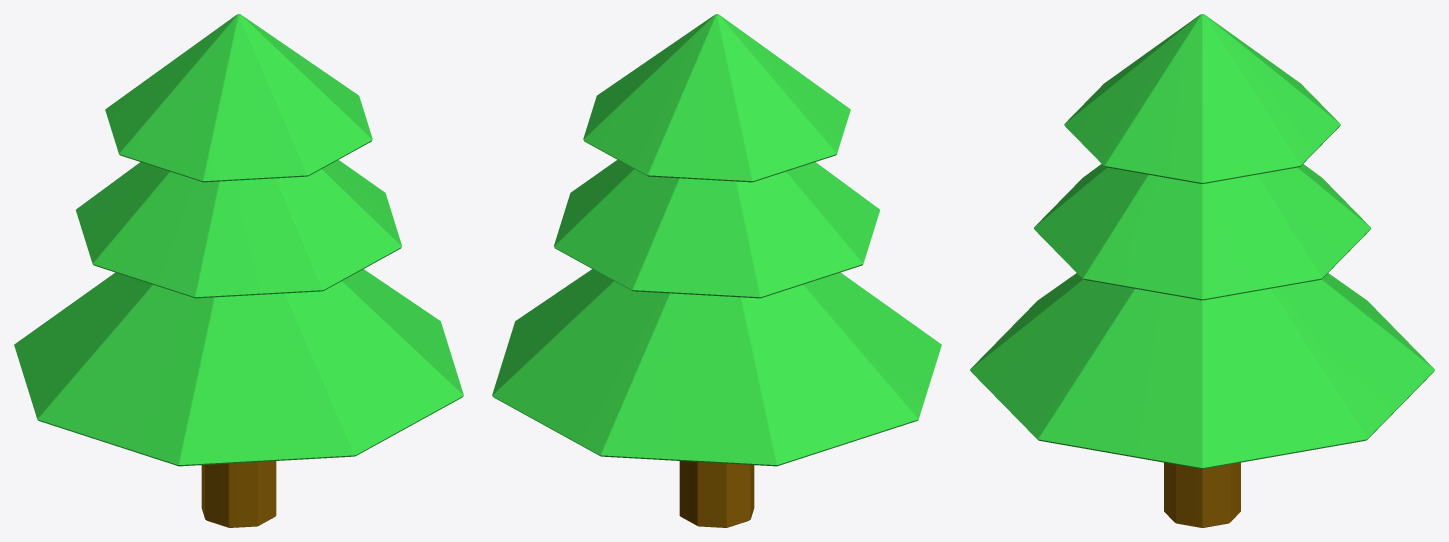
Rendered from Long Tree.fbx.
3 renders of one model, left to right at view 1: azimuth 30°, elevation 25°; view 2: azimuth 150°, elevation 25°; view 3: azimuth 270°, elevation 25°, orthographic.
Visible parts, largest first — view 1: pCylinder4; view 2: pCylinder4; view 3: pCylinder4.
Boxes of the visible parts, x1,y1,x2,y2 form: pCylinder4: (14, 14, 463, 527); pCylinder4: (492, 14, 941, 527); pCylinder4: (970, 14, 1434, 527).
Size of the model in its own units: 6.69 by 7.9 by 6.69.
